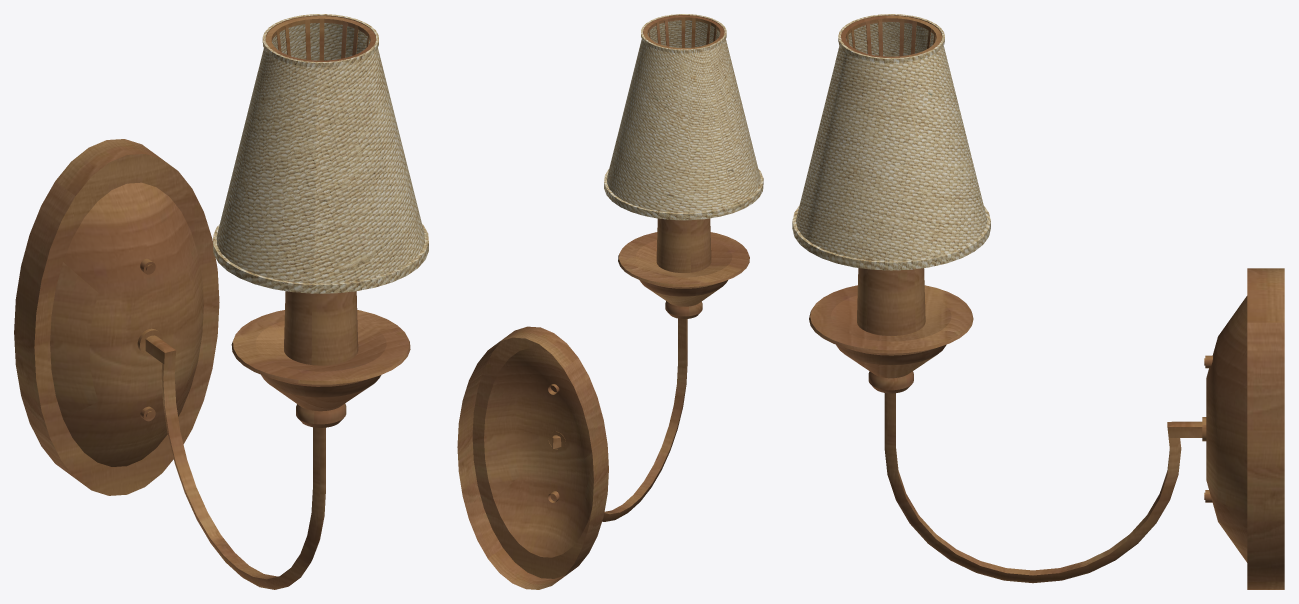
The model's file is Lampa2.obj.
The picture shows the model from 3 angles, left to right: view 1: azimuth 30°, elevation 25°; view 2: azimuth 150°, elevation 25°; view 3: azimuth 270°, elevation 25°; orthographic projection. The views are drawn at different scales.
Parts seen in each view (by area): view 1: Cylinder; view 2: Cylinder; view 3: Cylinder.
Part boxes in pixels (bbox=[...]): Cylinder: bbox=[14, 14, 428, 589]; Cylinder: bbox=[457, 14, 763, 589]; Cylinder: bbox=[792, 14, 1284, 589].
Size of the model in its own units: 0.2697 by 0.8219 by 0.6686.
Materials: 2 (2 with a texture image).
